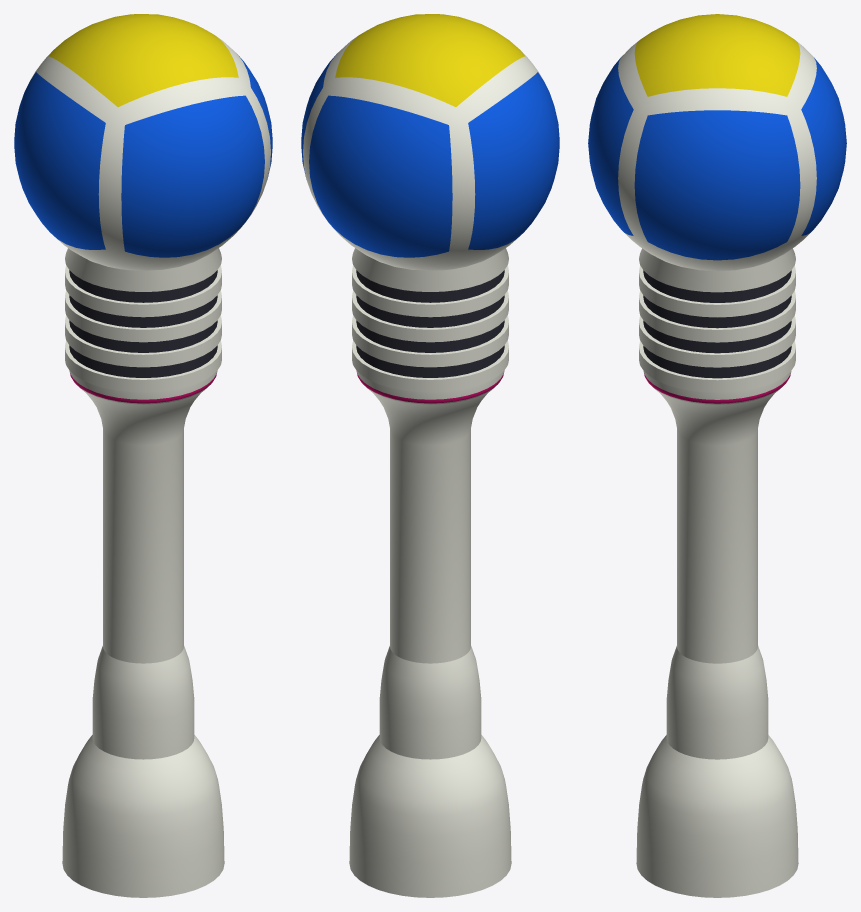
The model's file is BallPointTower.FBX.
3 renders of one model, left to right at view 1: azimuth 30°, elevation 25°; view 2: azimuth 150°, elevation 25°; view 3: azimuth 270°, elevation 25°, orthographic.
Visible parts, largest first — view 1: BallPointTower; view 2: BallPointTower; view 3: BallPointTower.
Boxes of the visible parts, x1=… form: BallPointTower: x1=14, y1=14, x2=272, y2=897; BallPointTower: x1=301, y1=14, x2=559, y2=897; BallPointTower: x1=588, y1=14, x2=846, y2=897.
Bounding box in the file's own units: 230 × 821 × 230.
